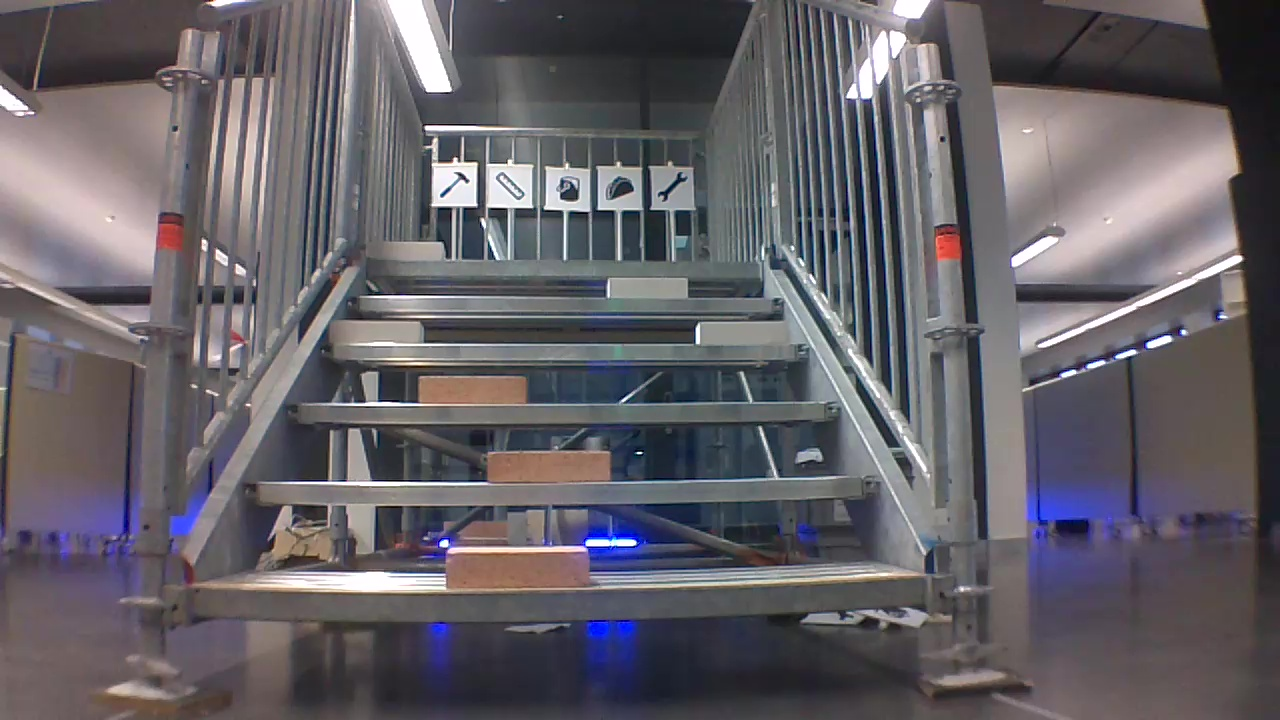brick: (442, 545, 590, 592), (483, 447, 614, 486), (410, 376, 529, 403), (688, 319, 807, 346), (319, 321, 429, 349), (365, 240, 448, 260), (608, 276, 694, 294)
bucket: (554, 176, 582, 203)
edge: (185, 580, 937, 622), (245, 473, 874, 508), (292, 395, 846, 427), (327, 339, 815, 365), (343, 297, 785, 318), (364, 259, 768, 279)
ruler: (496, 171, 527, 201)
stairs: (143, 0, 972, 690)
steps: (182, 257, 959, 629)
taco: (604, 175, 635, 202)
wrench: (658, 172, 687, 201), (440, 171, 470, 199)
